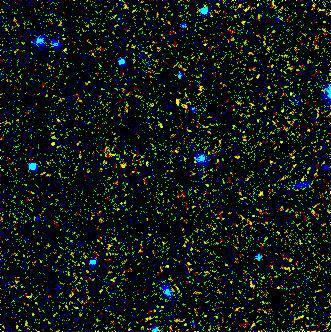star: (162, 87, 192, 117)
